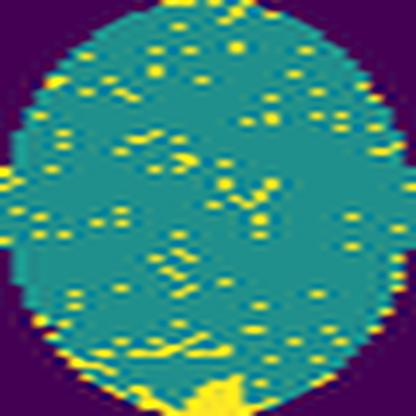Edge-Loc: (110, 374, 292, 416)
